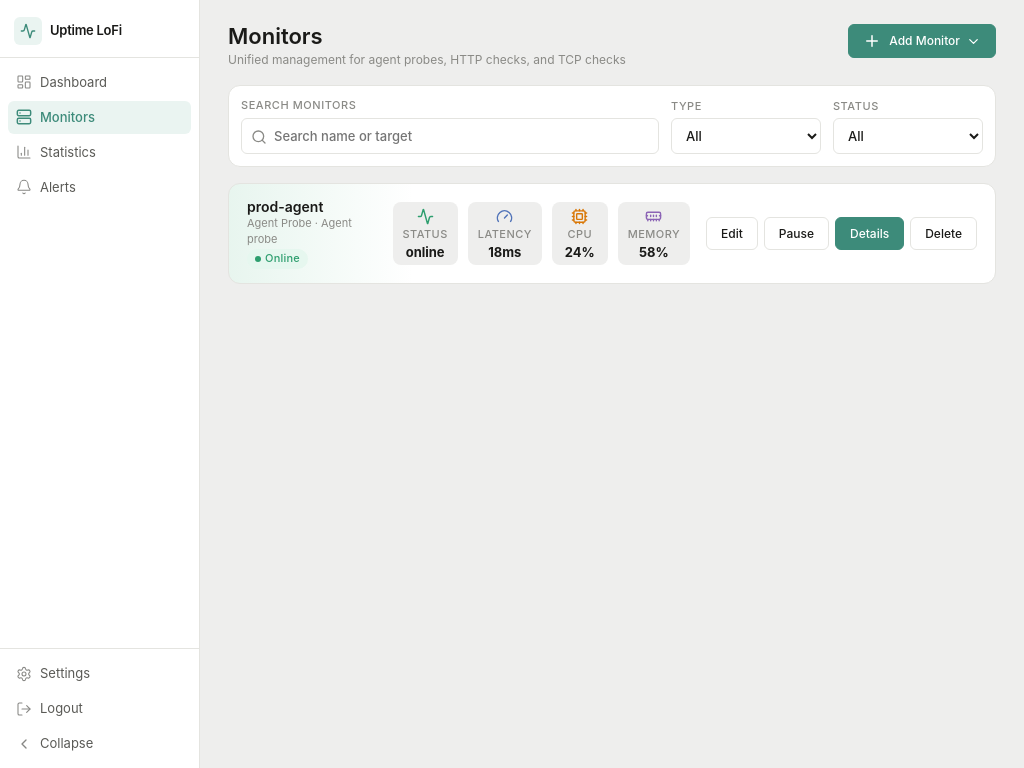
it: Monitors page › renders Docker containers from the latest agent report
The width and height of the screenshot is (1024, 768).
Click the button "Monitors". click: (100, 117)
box: [8,101,191,134]
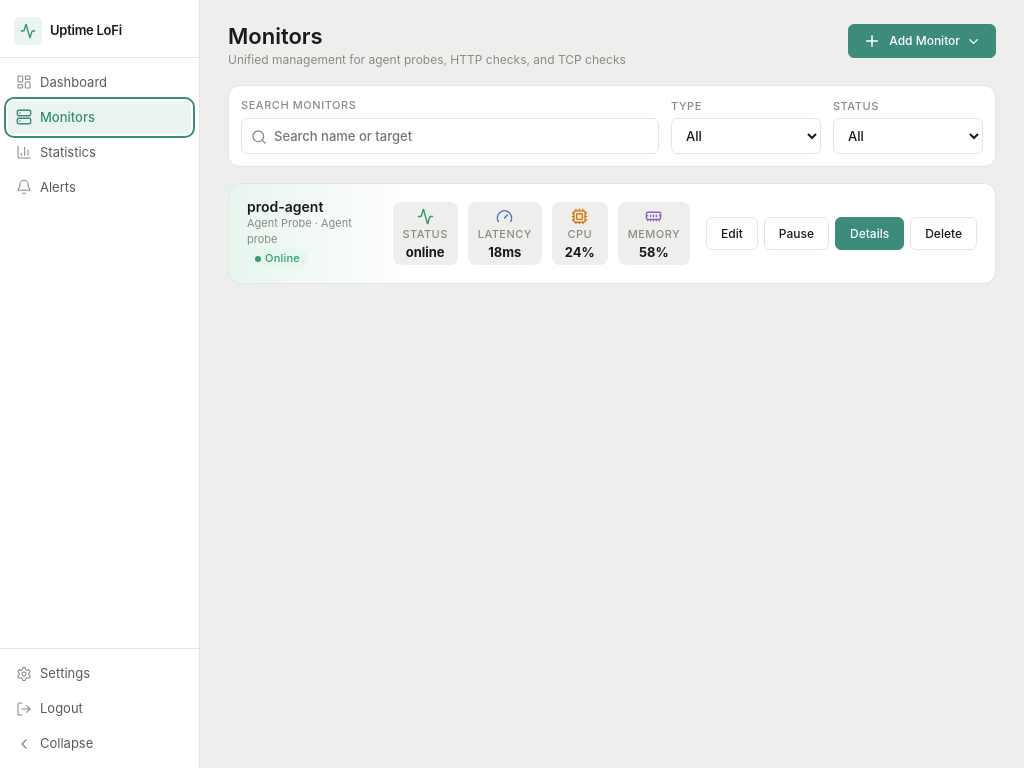
Click the button "Details". click: (870, 234)
box: [835,217,904,250]
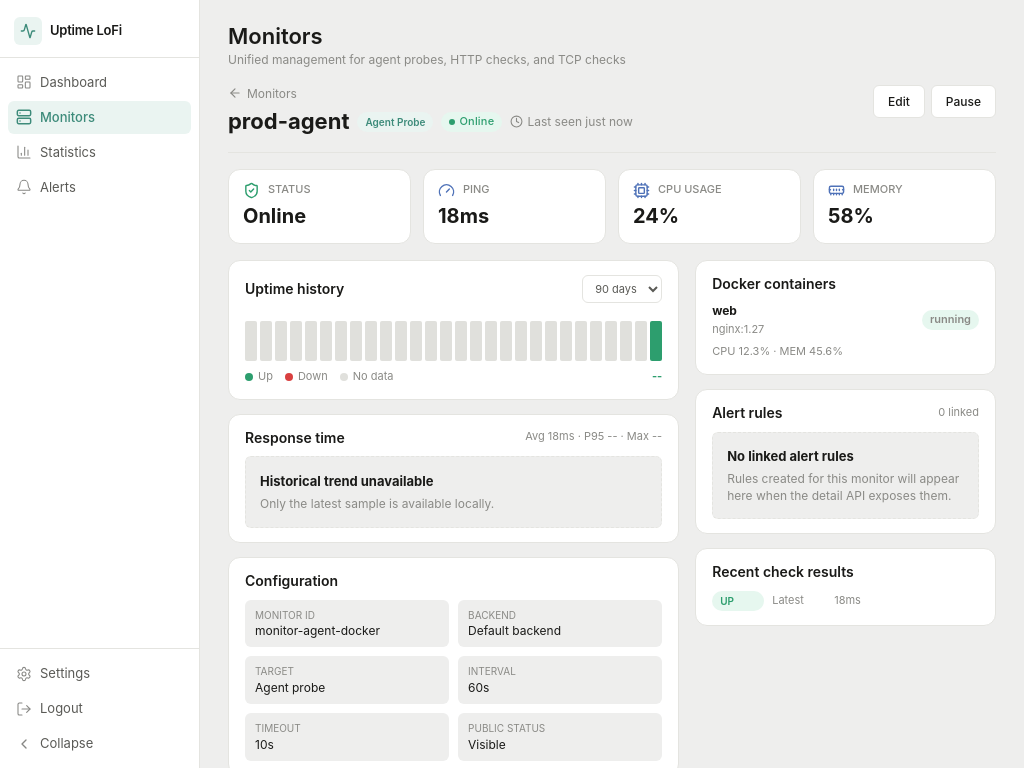
Check: the heading "Docker containers" is shown, box [712,275,836,292]
Check: the text "web" is shown, box [712,303,737,318]
Check: the text "nginx:1.27" is shown, box [712,322,764,336]
